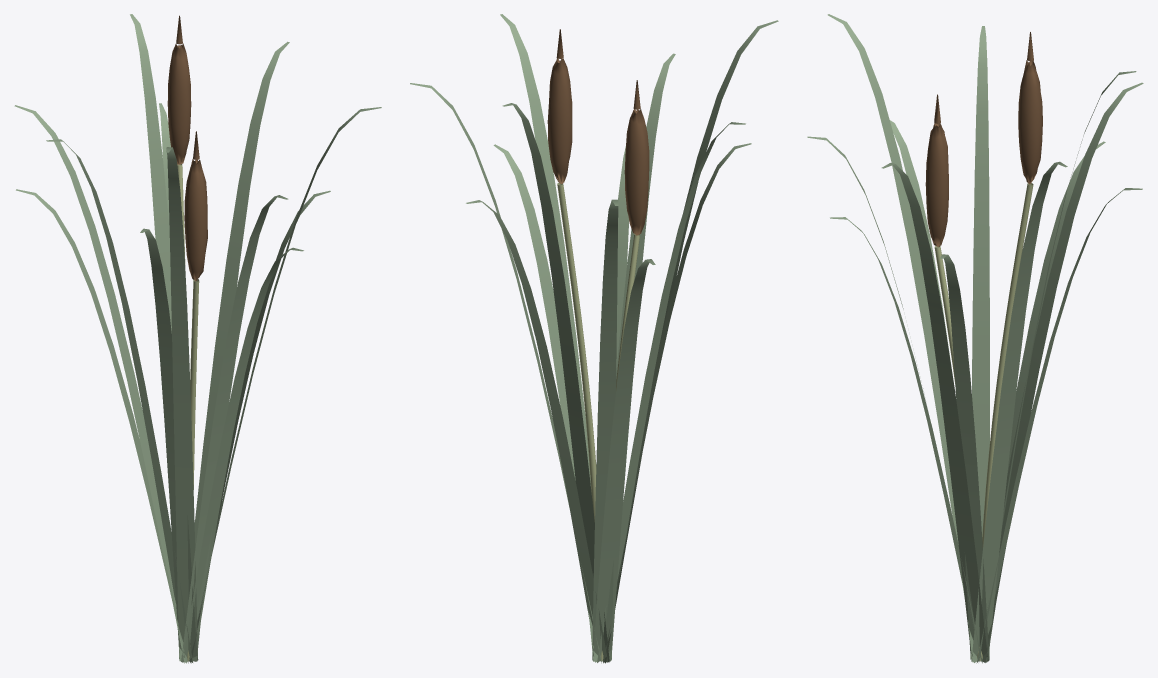
Rendered from reedmace-v1.glb.
3 renders of one model, left to right at view 1: azimuth 30°, elevation 25°; view 2: azimuth 150°, elevation 25°; view 3: azimuth 270°, elevation 25°, orthographic. The views are drawn at different scales.
Parts seen in each view (by area): view 1: leaf-clump, spike-a, stem-a; view 2: leaf-clump, spike-a, stem-a; view 3: leaf-clump, spike-a, stem-a.
Boxes of the visible parts, x1,y1,x2,y2 form: leaf-clump: (14, 14, 381, 663); spike-a: (167, 15, 207, 281); stem-a: (177, 164, 199, 661); leaf-clump: (410, 14, 778, 663); spike-a: (547, 29, 649, 235); stem-a: (557, 182, 639, 661); leaf-clump: (807, 14, 1143, 663); spike-a: (925, 32, 1042, 246); stem-a: (934, 183, 1033, 661).
Size of the model in its own units: 0.5536 by 1.15 by 0.552.
